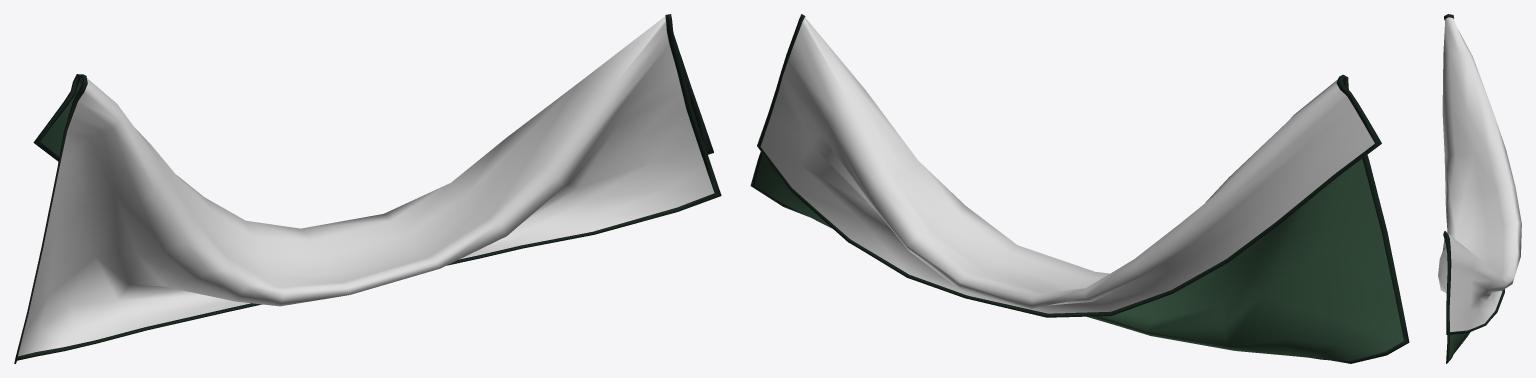
File: SM_H_Tide_Dock_Fabric_01b_ATLAS.fbx
The picture shows the model from 3 angles, left to right: view 1: azimuth 30°, elevation 25°; view 2: azimuth 150°, elevation 25°; view 3: azimuth 270°, elevation 25°; orthographic projection. The views are drawn at different scales.
Visible parts, largest first — view 1: SM_H_Tide_Dock_Fabric_01b_ATLAS; view 2: SM_H_Tide_Dock_Fabric_01b_ATLAS; view 3: SM_H_Tide_Dock_Fabric_01b_ATLAS.
Part boxes in pixels (x1=…): SM_H_Tide_Dock_Fabric_01b_ATLAS: x1=14, y1=14, x2=721, y2=363; SM_H_Tide_Dock_Fabric_01b_ATLAS: x1=750, y1=14, x2=1409, y2=363; SM_H_Tide_Dock_Fabric_01b_ATLAS: x1=1438, y1=14, x2=1521, y2=363.
Size of the model in its own units: 576 by 99.1 by 228.
